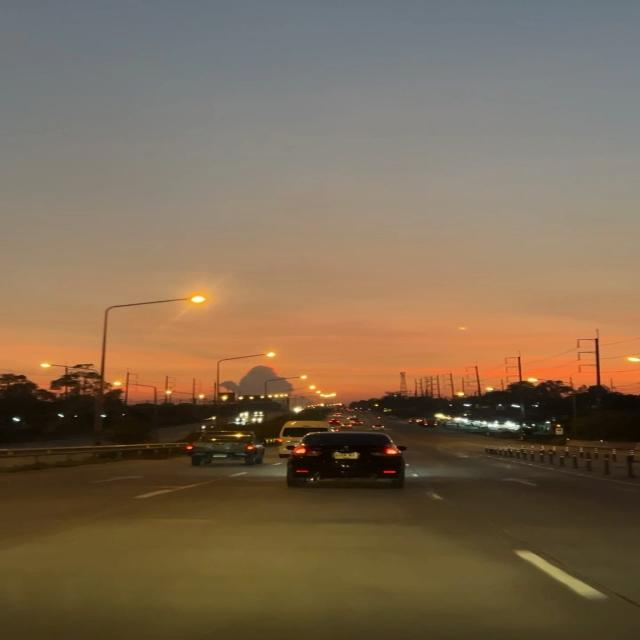Poth-hole: (0, 483, 571, 640)
